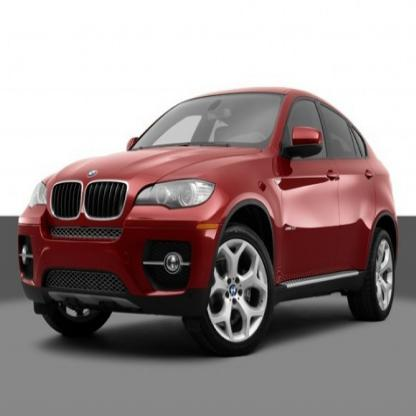Vehicle: (13, 84, 402, 344)
